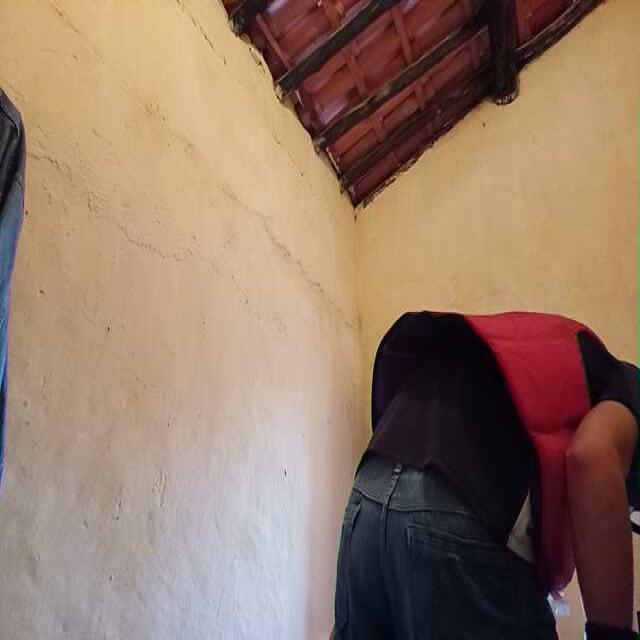capacete: (623, 477, 640, 540)
colete: (479, 293, 599, 577)
pessoa: (313, 299, 640, 640)
